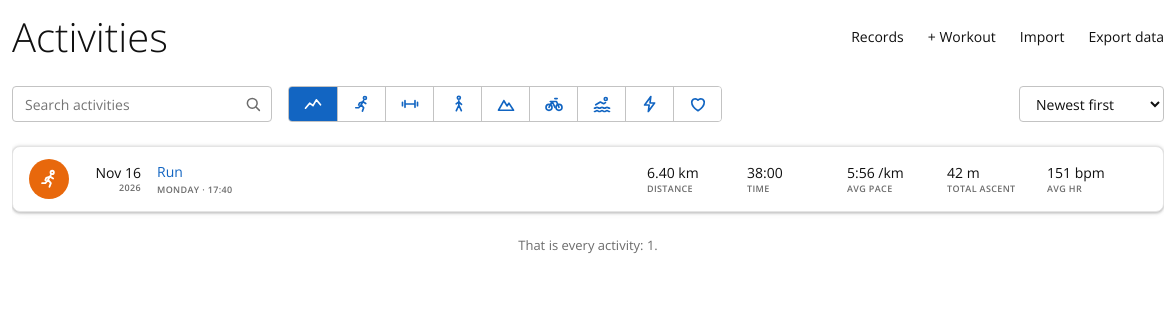
Test: ActivitiesPage › filters by type through the API and shows an empty state
Expected: the text "6.40 km" is shown, [647,163,699,182]
Click the button named "Swim" at (601, 104), box [577,87,625,121]
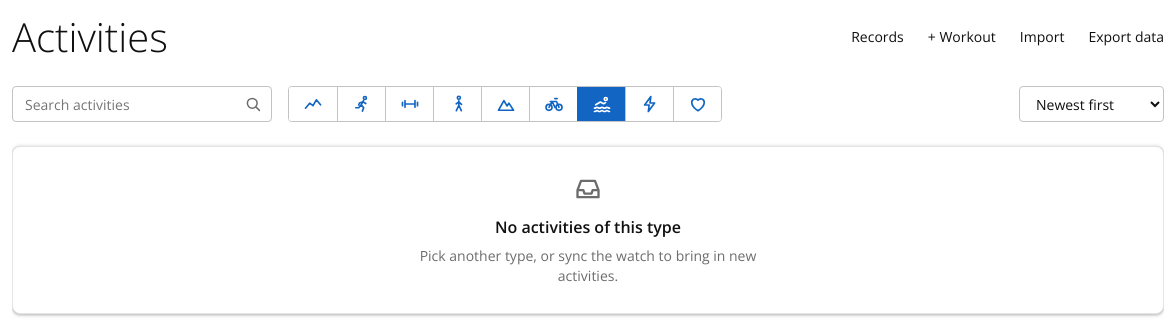
Expected: the text "No activities of this type" is shown, [495,216,681,238]
